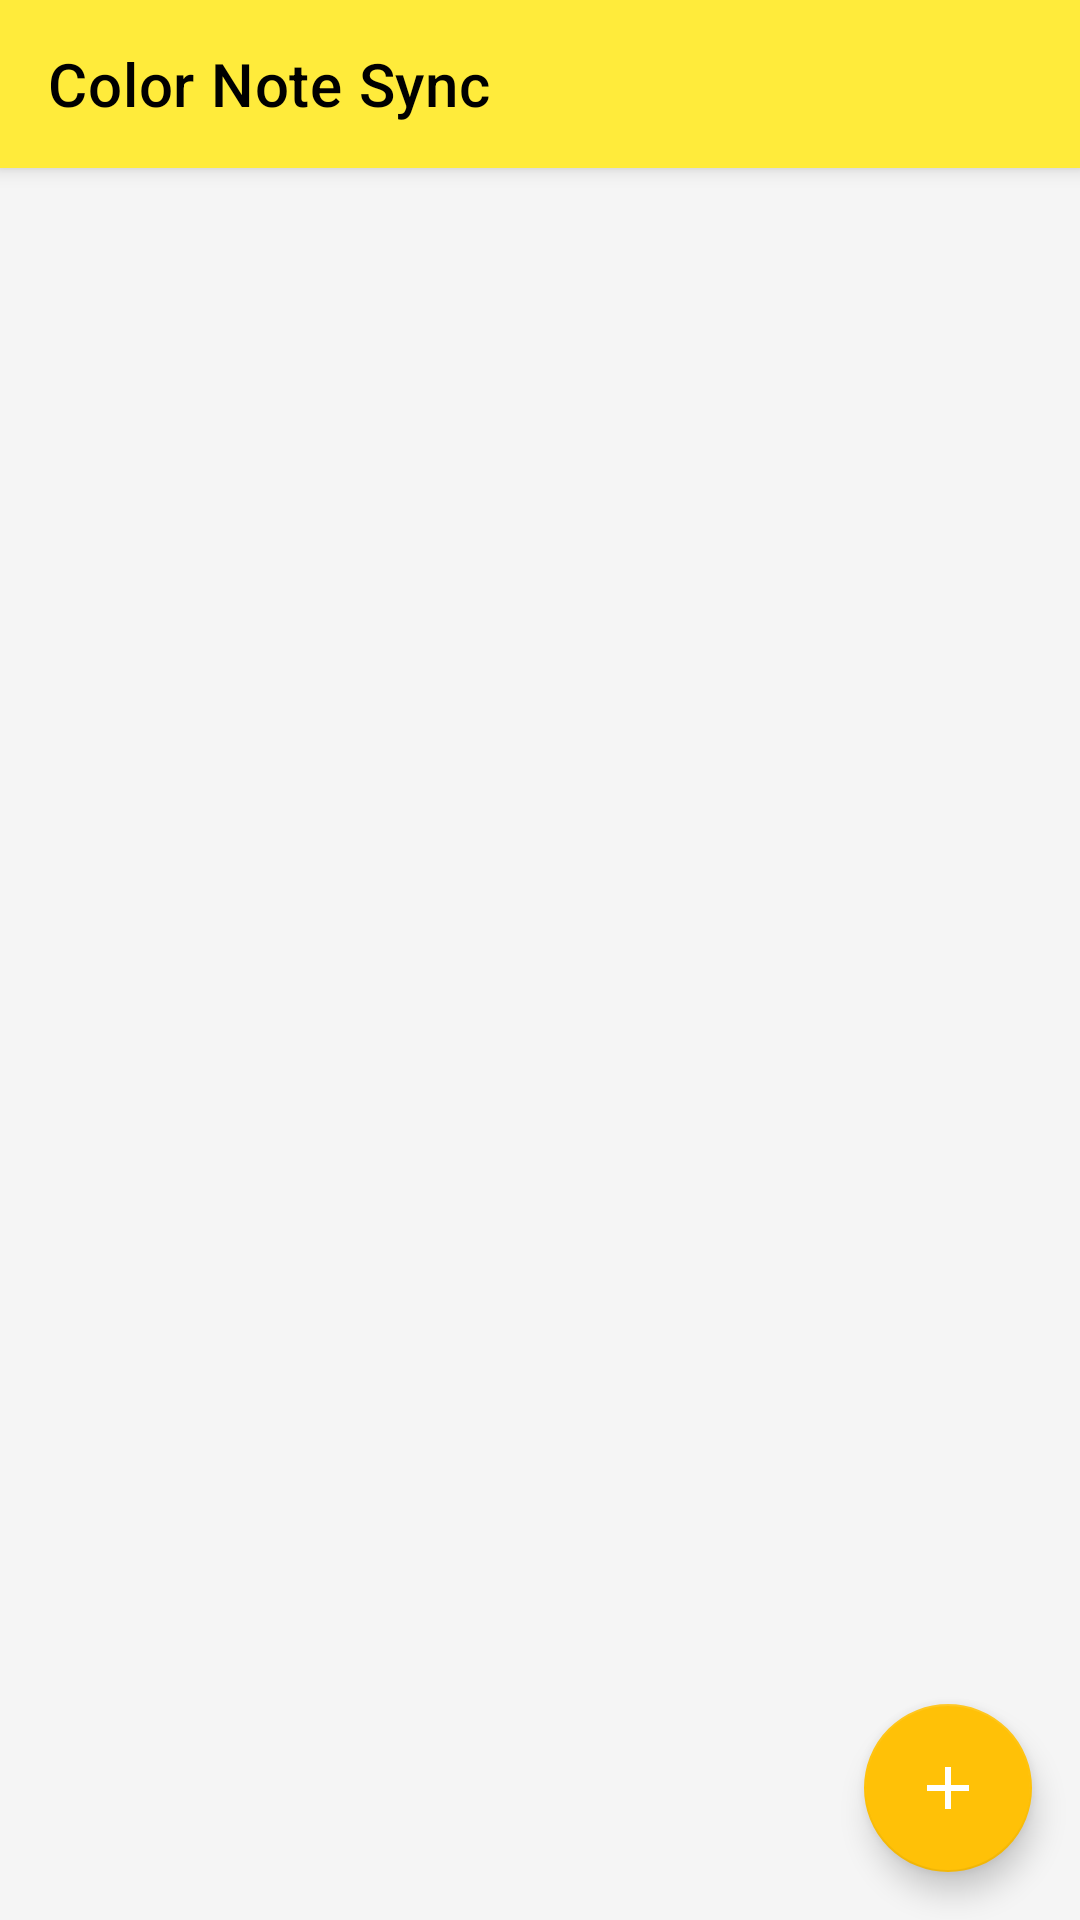

Icons on this 1080*1920 Android screen, each with its box as box=[x1, y1, x2, y2]:
Add note: box=[864, 1704, 1032, 1872]
